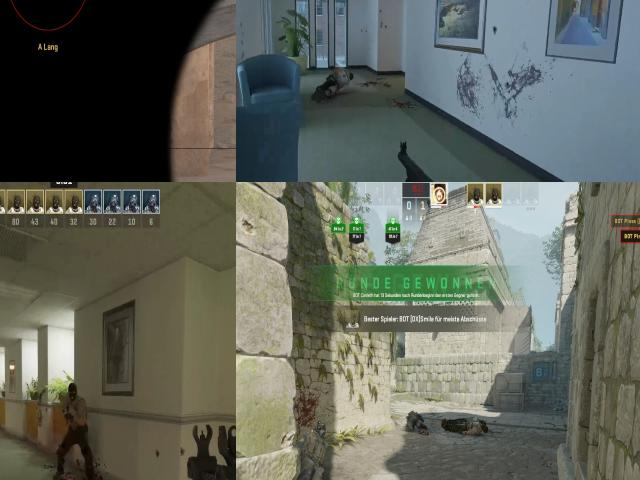Dead: (296, 418, 329, 480), (316, 64, 357, 112), (401, 402, 427, 434), (444, 421, 486, 440), (446, 411, 488, 425)
T: (62, 381, 89, 440)
T-Head: (65, 383, 81, 401)
